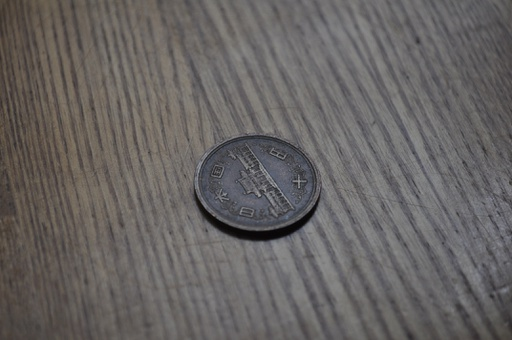10yen: (194, 133, 321, 235)
